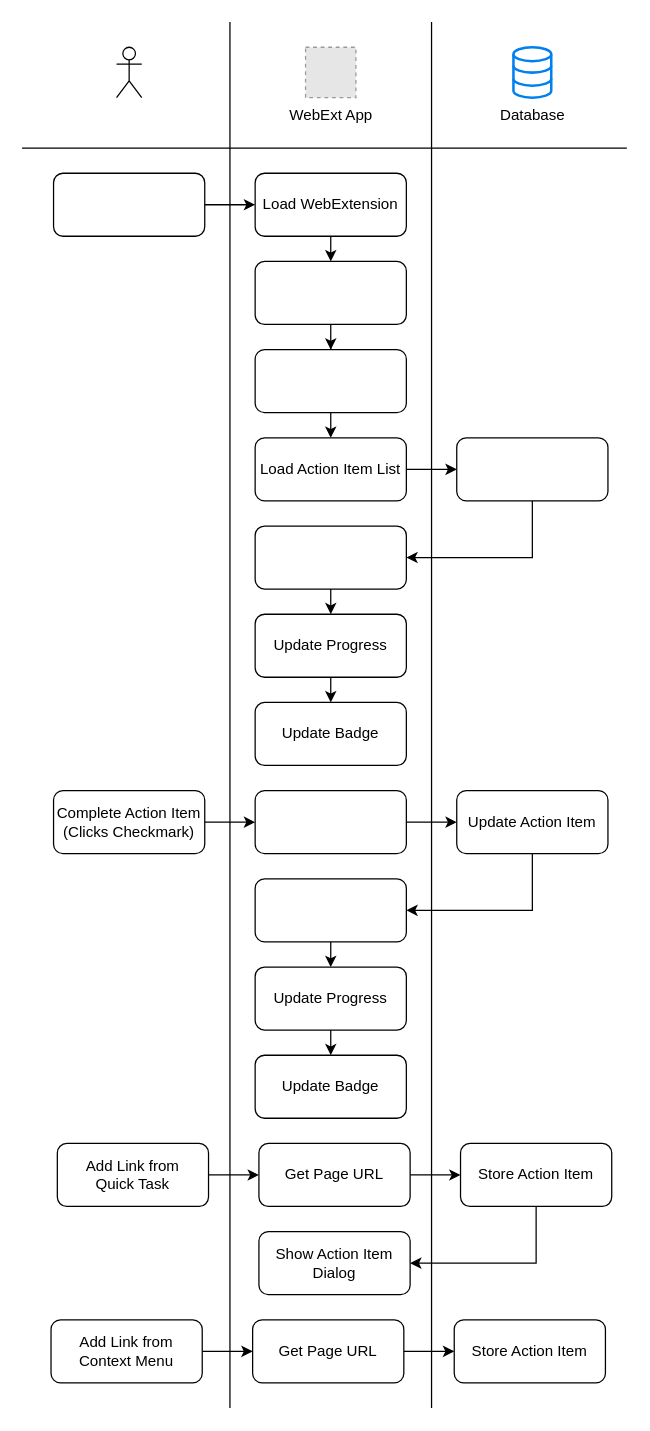
The diagram is 650 pixels wide and 1431 high, and some of its shapes have lost their labels. Grey dashed boxes stand in for pictures. The centre of each missing label's shape, as x and y in pixels:
Get Action Item List: (531,469)
Mark Action Item: (330,821)
Open WebExtension: (128,204)
Show Action Item List: (330,557)
Show Greeting: (330,292)
Show Image: (330,380)
Update Action Item View: (330,910)
User: (128,72)
